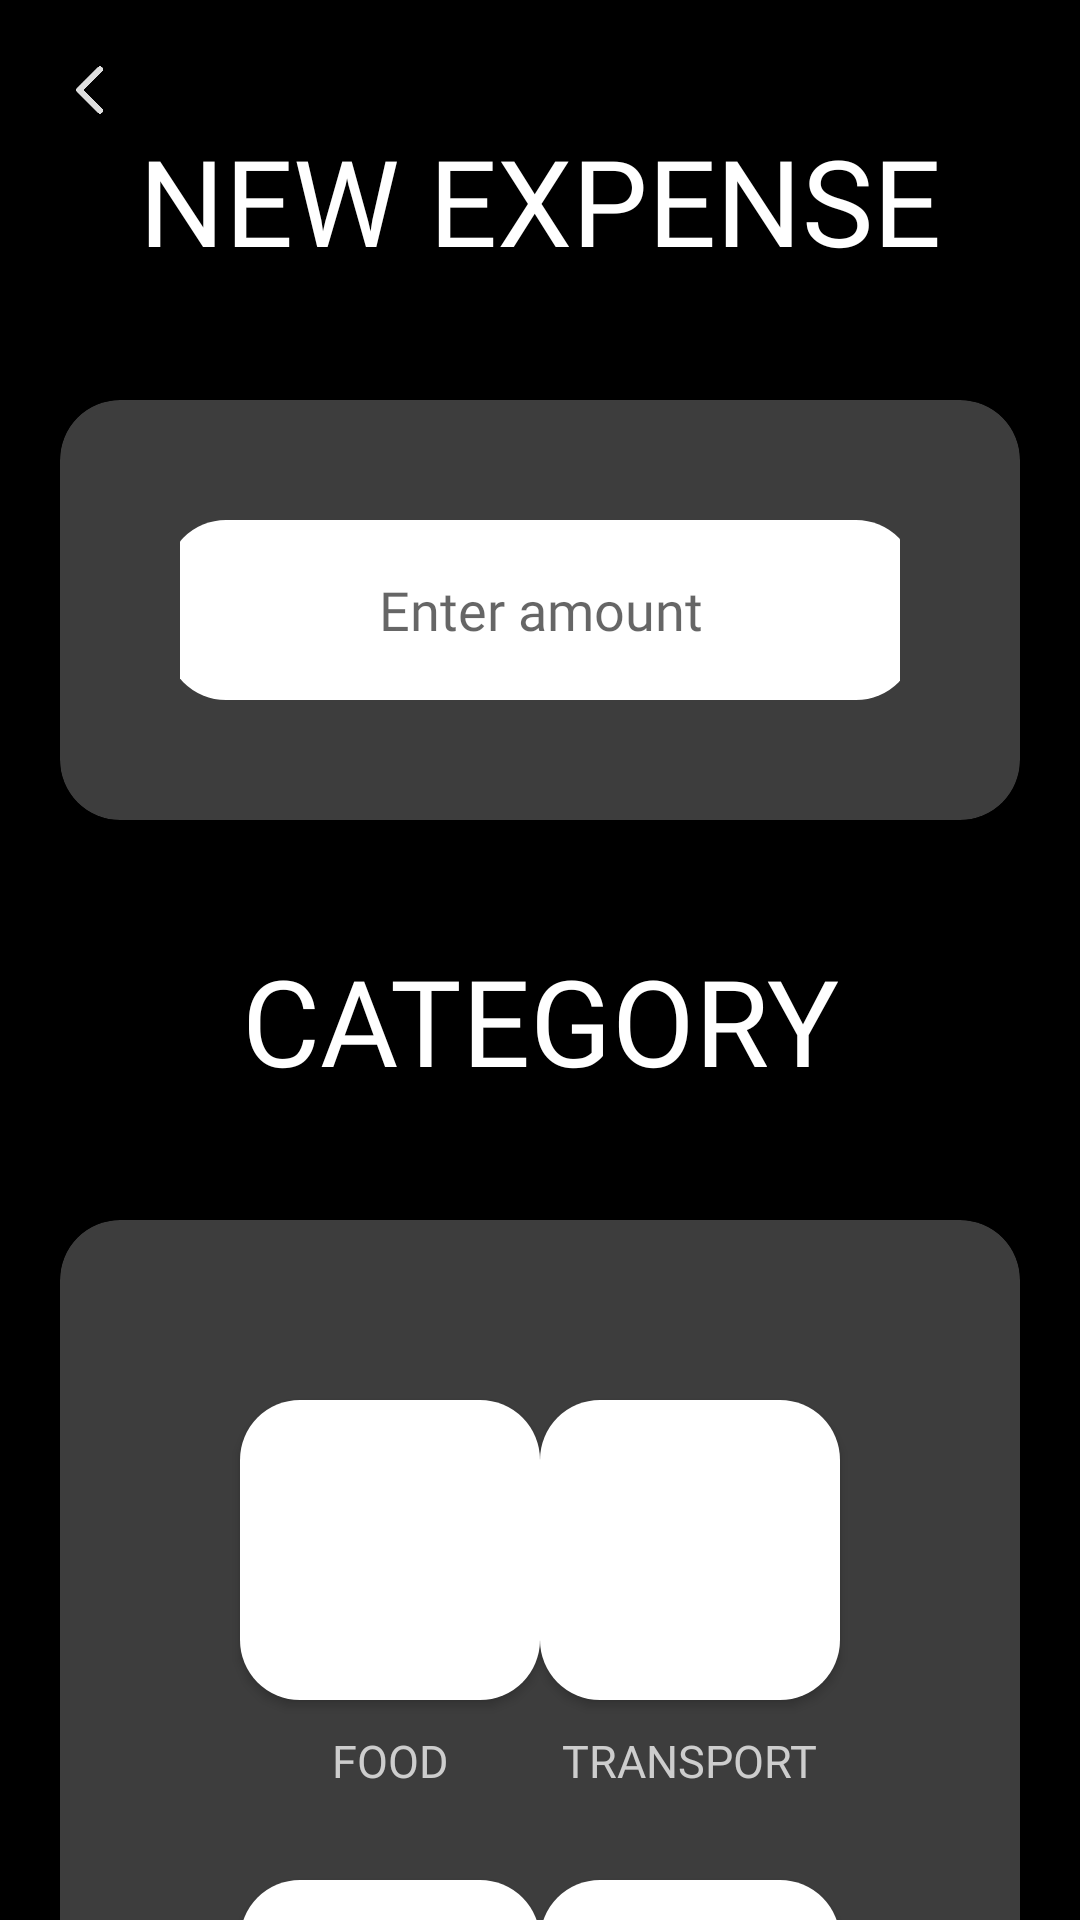

Icons on this 1080px×1920px Android screen, each with its box as bbox=[x1, y1, x2, y2]:
backb: bbox=[76, 66, 103, 114]
